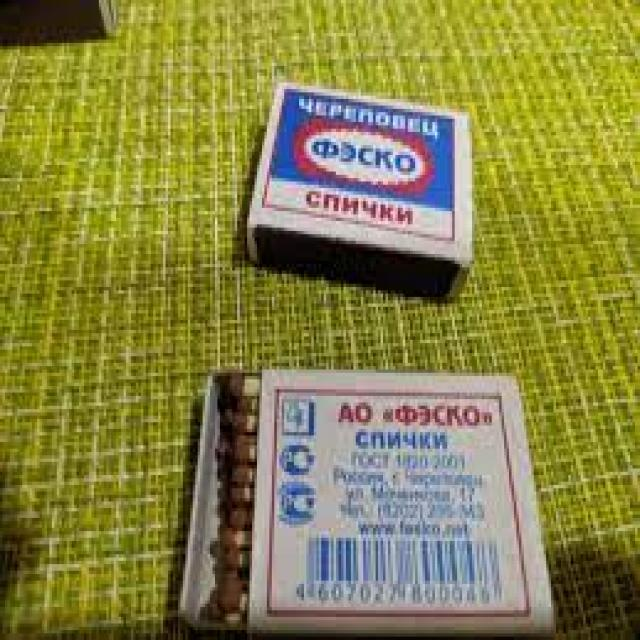match: (254, 359, 558, 640), (244, 79, 480, 306)
